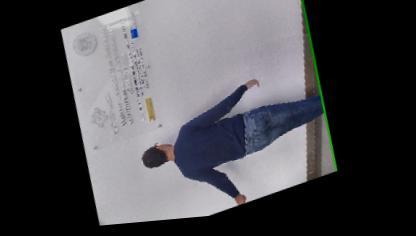knife: (233, 193, 252, 210)
